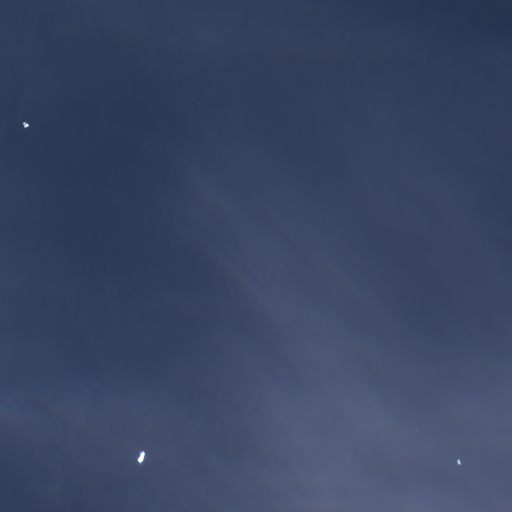Iceberg: (137, 451, 144, 462), (22, 122, 28, 127), (457, 459, 460, 464), (416, 429, 417, 430)
